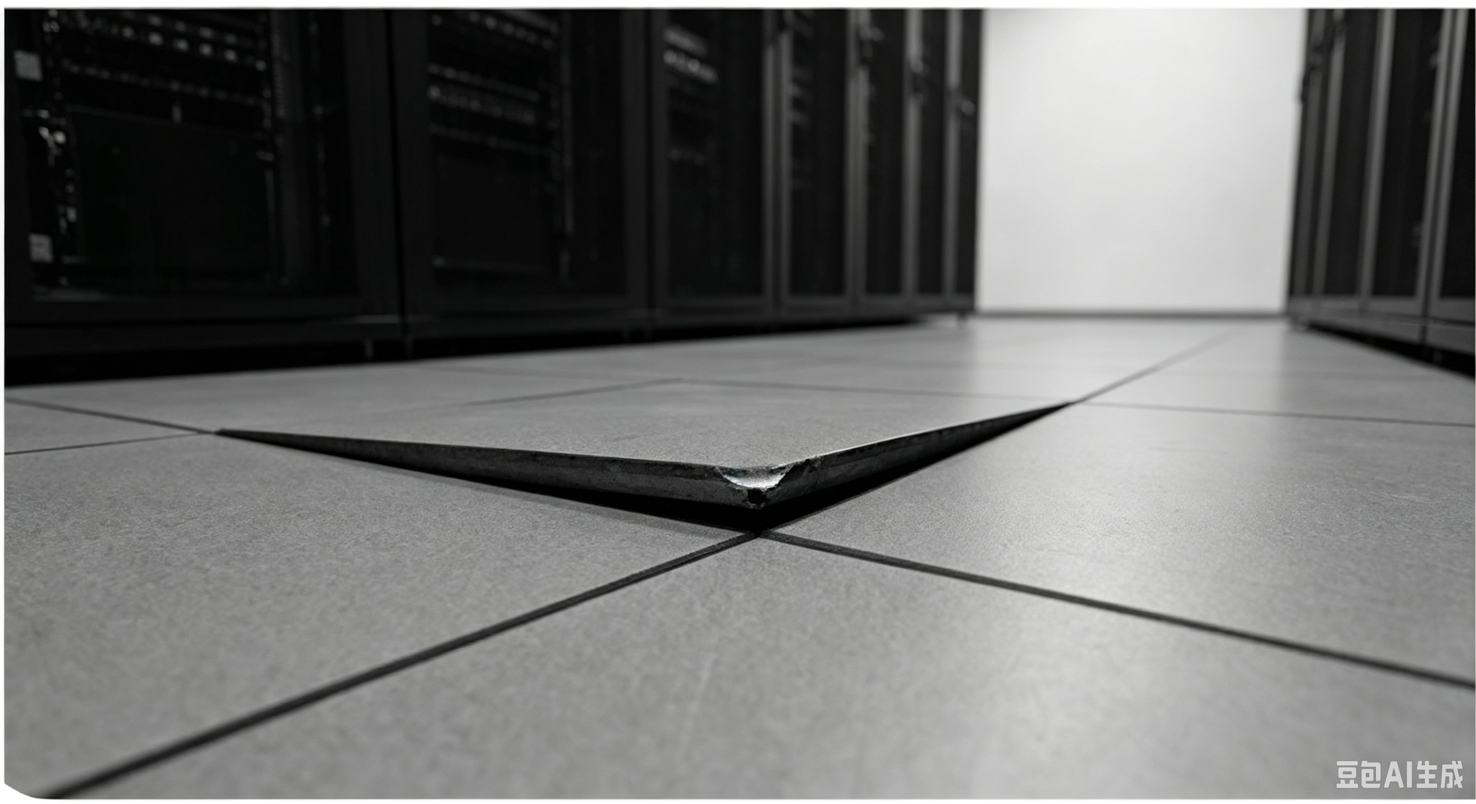floor_defect: (229, 402, 1120, 530)
